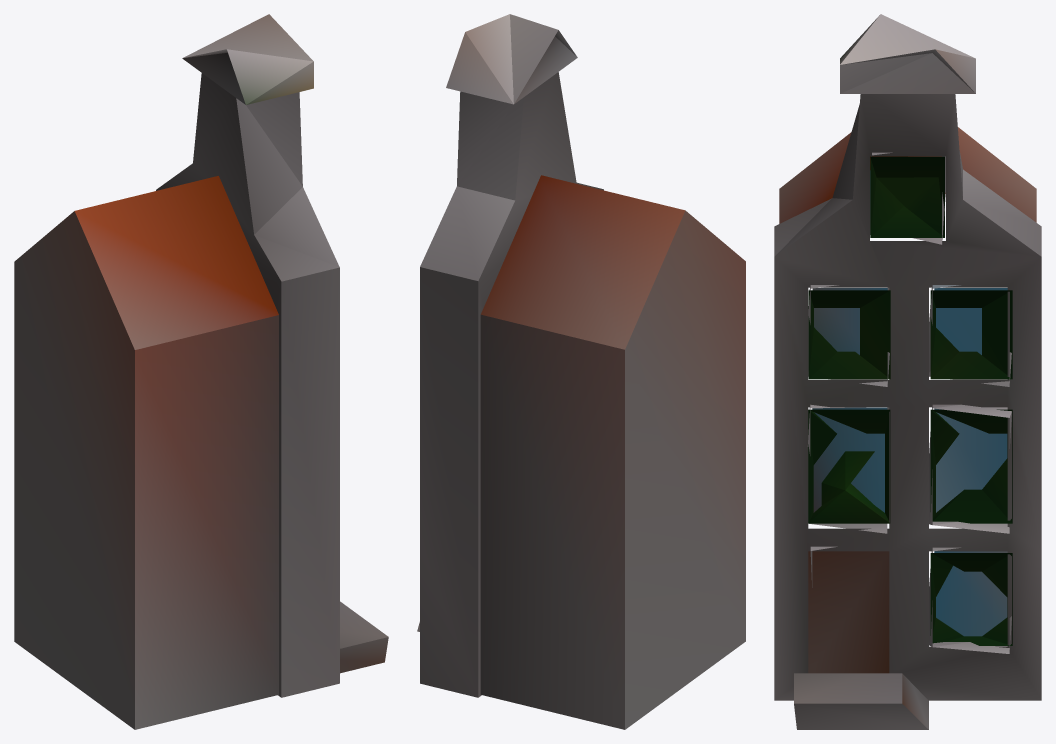
The model's file is sf_house_4_lod.glb.
3 views of the same model, side by side, from view 1: azimuth 30°, elevation 25°; view 2: azimuth 150°, elevation 25°; view 3: azimuth 270°, elevation 25° (orthographic). The views are drawn at different scales.
Parts seen in each view (by area): view 1: defaultMaterial; view 2: defaultMaterial; view 3: defaultMaterial.
Part boxes in pixels (x1,y1,x2,y2): defaultMaterial: [14, 14, 388, 729]; defaultMaterial: [417, 14, 745, 729]; defaultMaterial: [774, 14, 1041, 729].
Size of the model in its own units: 3.56 by 8 by 2.97.
